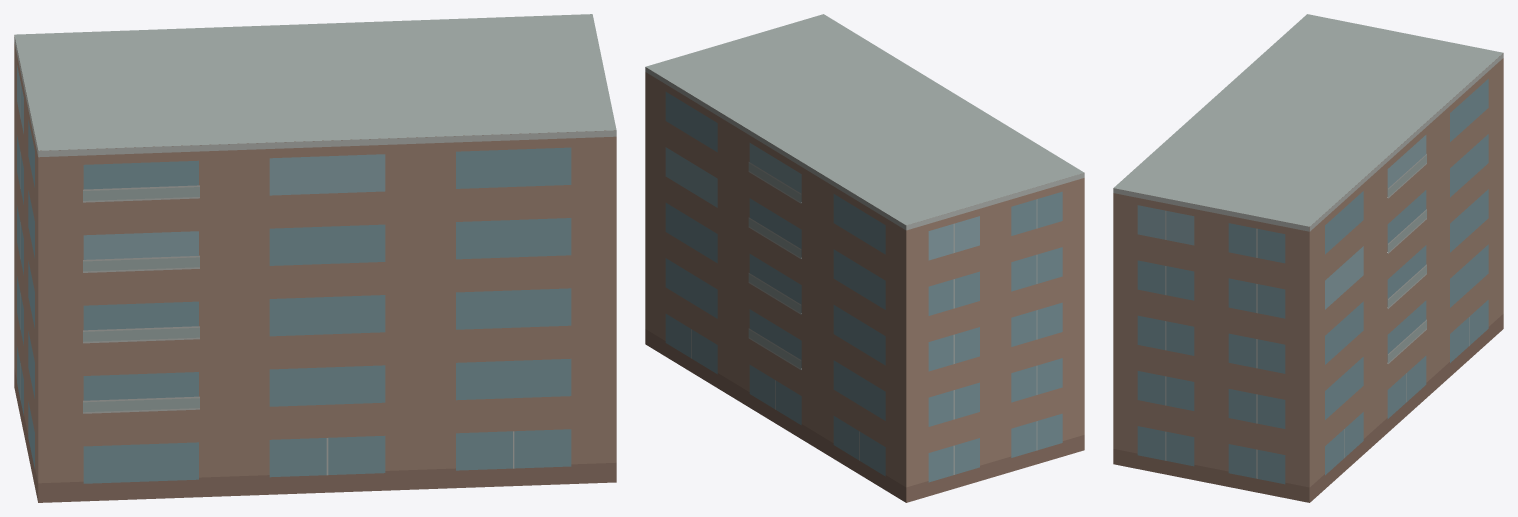
Rendered from survey-upis-32552446.glb.
3 renders of one model, left to right at view 1: azimuth 30°, elevation 25°; view 2: azimuth 150°, elevation 25°; view 3: azimuth 270°, elevation 25°, orthographic. The views are drawn at different scales.
Parts seen in each view (by area): view 1: survey-upis-32552446.tmp; view 2: survey-upis-32552446.tmp; view 3: survey-upis-32552446.tmp.
Boxes of the visible parts, box(x1,y1,x2,y2) form: survey-upis-32552446.tmp: box(14, 14, 616, 502); survey-upis-32552446.tmp: box(645, 14, 1084, 502); survey-upis-32552446.tmp: box(1113, 14, 1503, 502).
Bounding box in the file's own units: 22.32 × 13.5 × 17.3.
